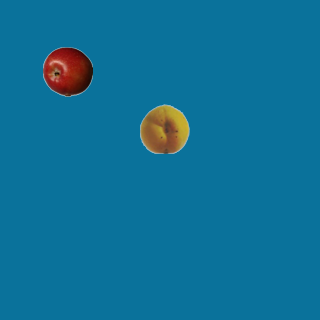Apple Braeburn: (42, 46, 92, 96)
Peach 2: (139, 103, 189, 153)
